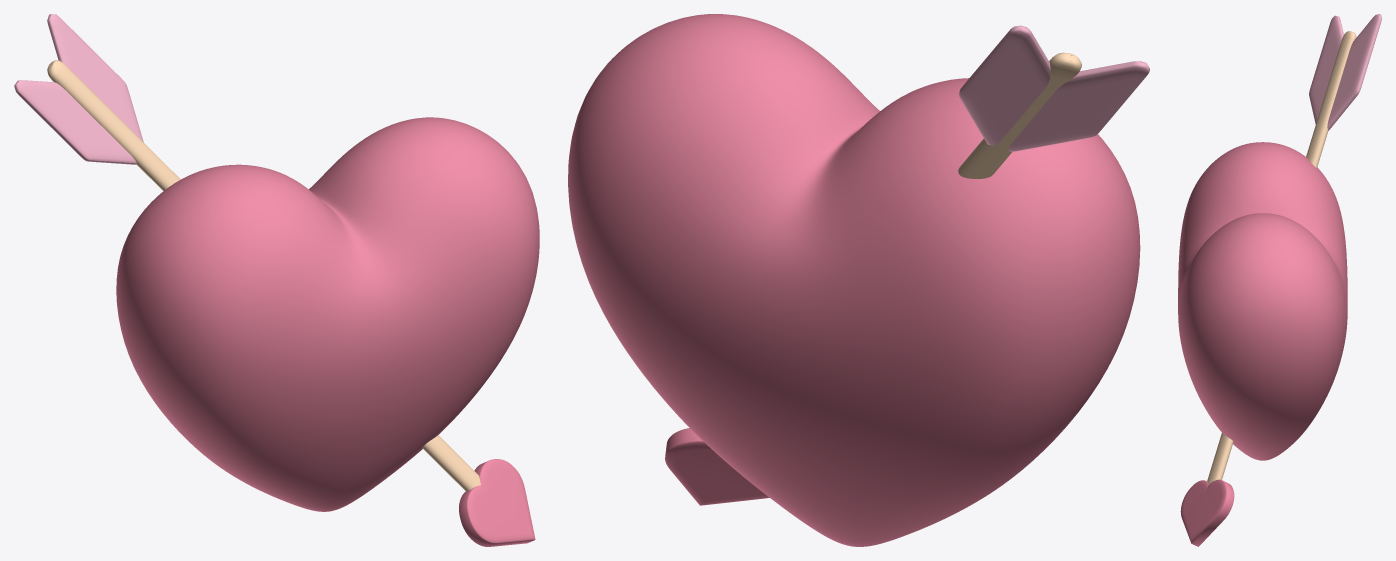
File: heart.glb
3 renders of one model, left to right at view 1: azimuth 30°, elevation 25°; view 2: azimuth 150°, elevation 25°; view 3: azimuth 270°, elevation 25°, orthographic. The views are drawn at different scales.
Visible parts, largest first — view 1: 0008; view 2: 0008; view 3: 0008.
Boxes of the visible parts, x1=… form: 0008: x1=14, y1=14, x2=539, y2=546; 0008: x1=568, y1=14, x2=1149, y2=546; 0008: x1=1178, y1=14, x2=1381, y2=546.
Bounding box in the file's own units: 2.47 × 2.7 × 1.25.
